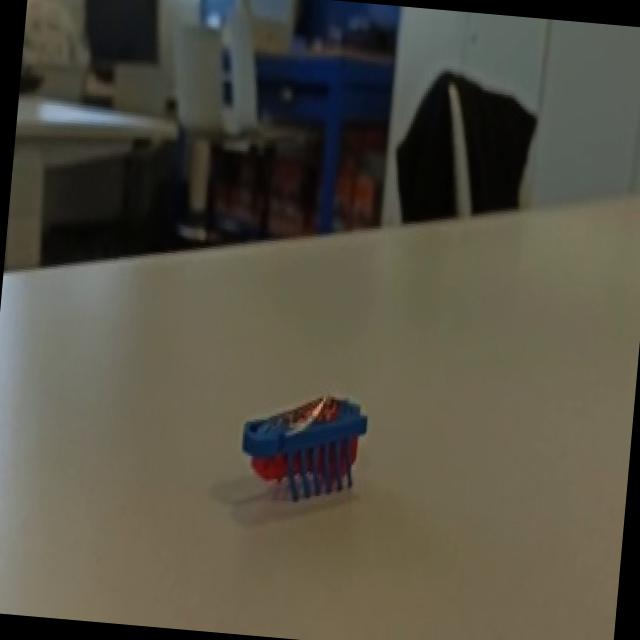1_NanoBug_Azul: (204, 376, 411, 545)
